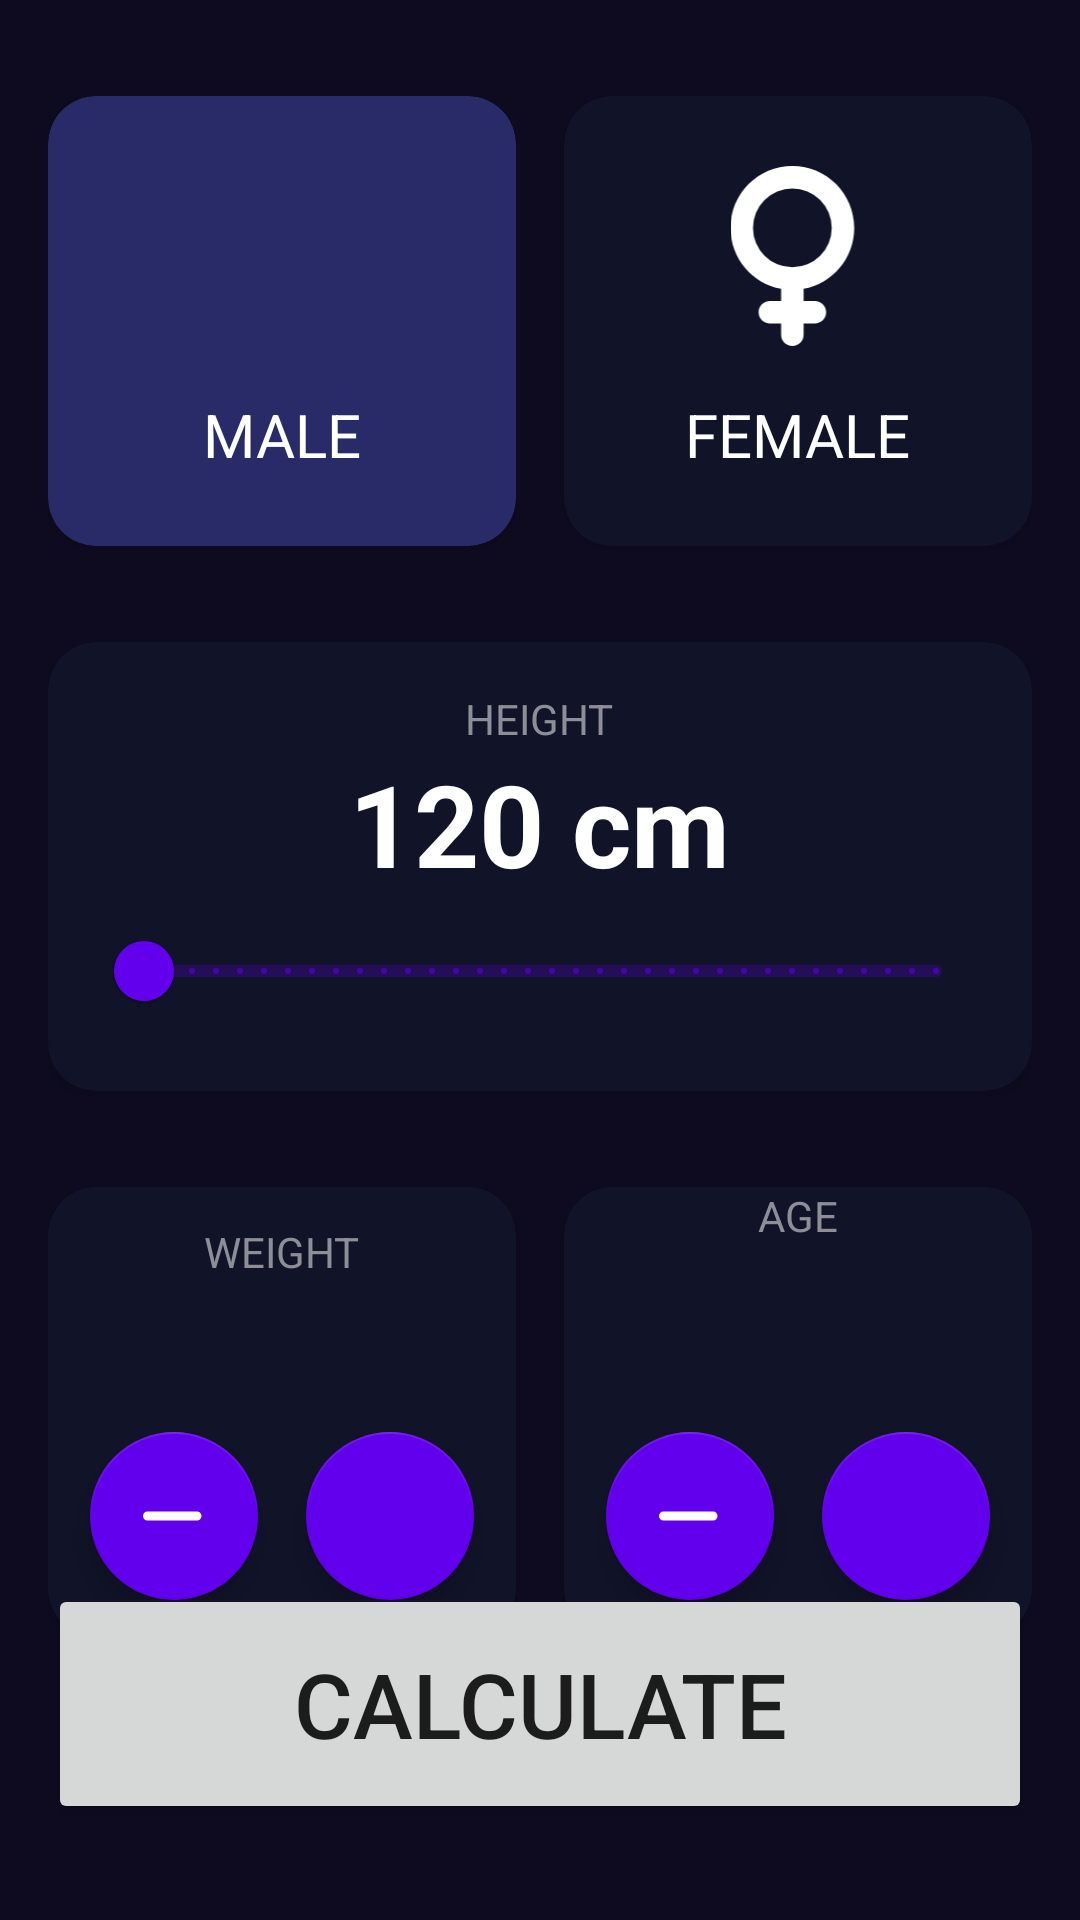

Icon click points for this 1080×1920 phone screenshot, format (x=x, y=y):
subtract: (x=174, y=1516), (x=690, y=1516)
